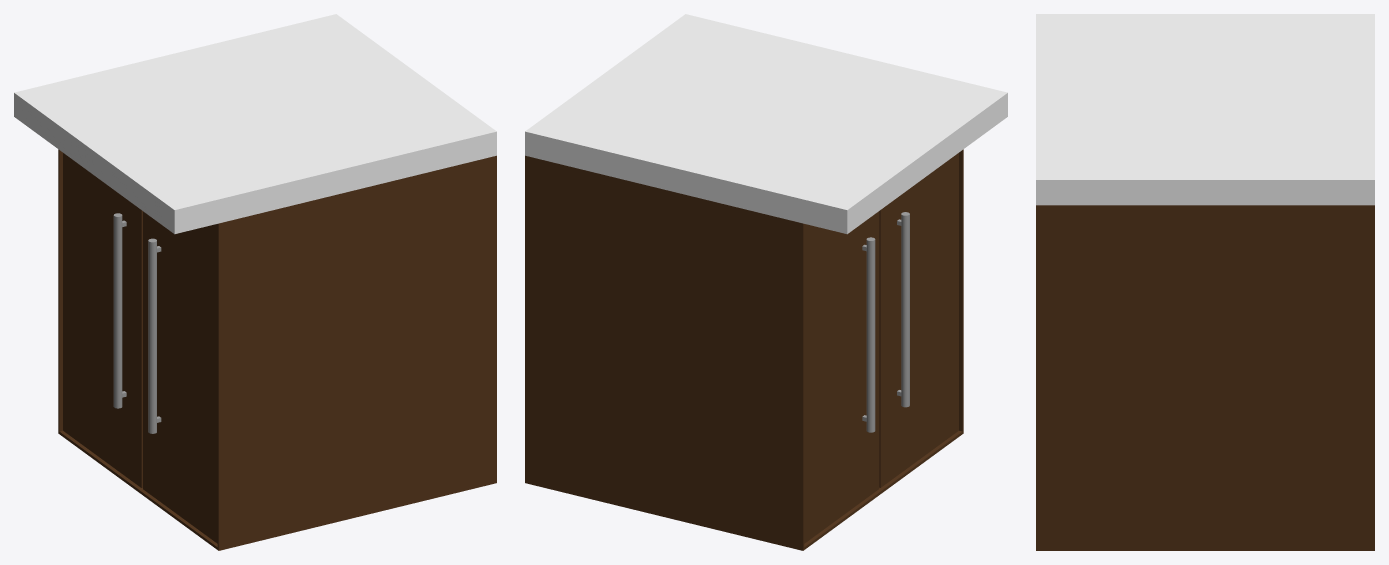
The model's file is Counter 3.fbx.
The picture shows the model from 3 angles, left to right: view 1: azimuth 30°, elevation 25°; view 2: azimuth 150°, elevation 25°; view 3: azimuth 270°, elevation 25°; orthographic projection. The views are drawn at different scales.
Visible parts, largest first — view 1: Counter 3; view 2: Counter 3; view 3: Counter 3.
Boxes of the visible parts, x1=… form: Counter 3: x1=14, y1=14, x2=496, y2=550; Counter 3: x1=525, y1=14, x2=1007, y2=550; Counter 3: x1=1036, y1=14, x2=1374, y2=550.
Size of the model in its own units: 116 by 121 by 100.
